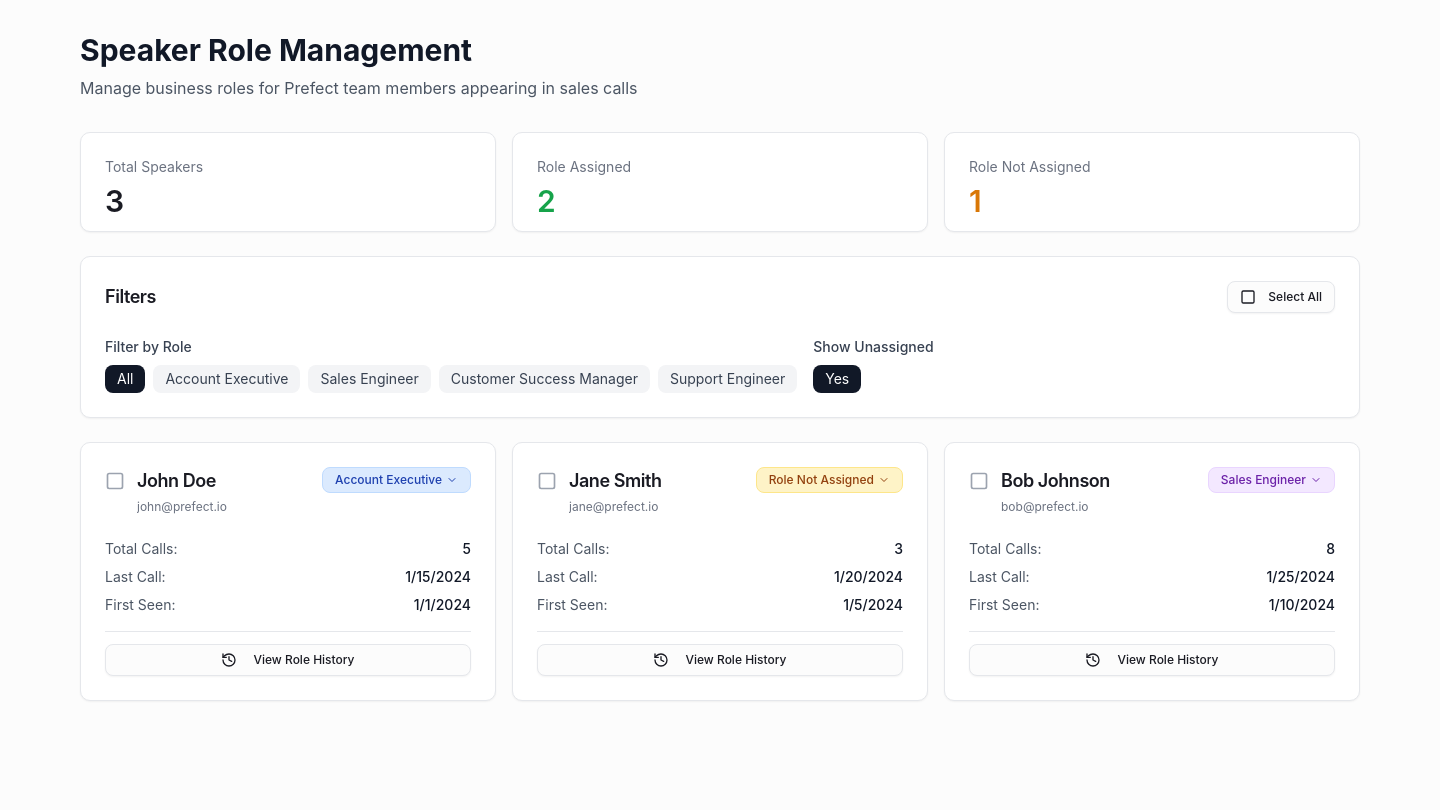
Test: SpeakersPage › Speaker Selection › selects all speakers when "Select All" is clicked
Click the button "Select All". click: (1281, 297)
box: [1227,281,1335,313]
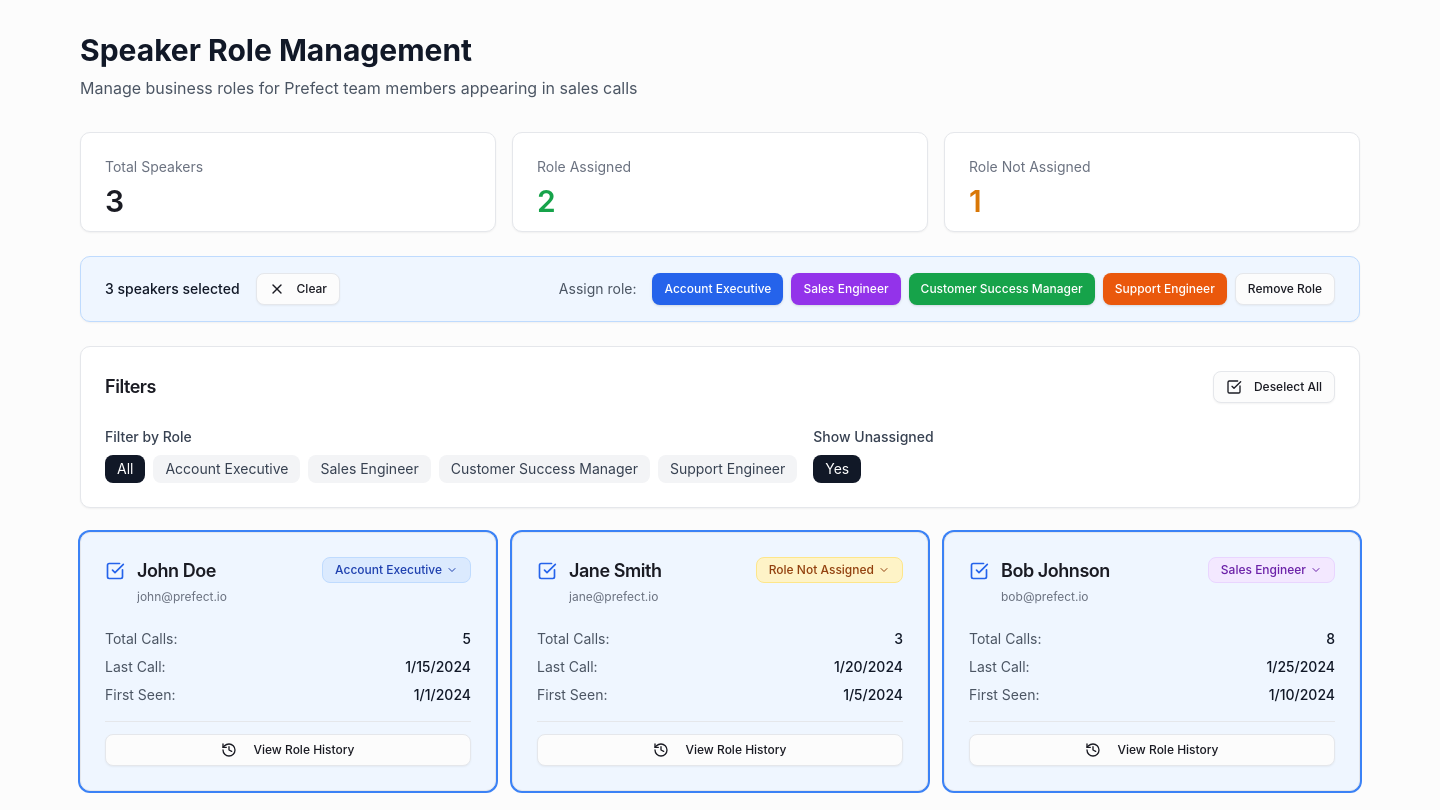
Check: the text "3 speakers selected" is shown, box [105,279,240,299]
